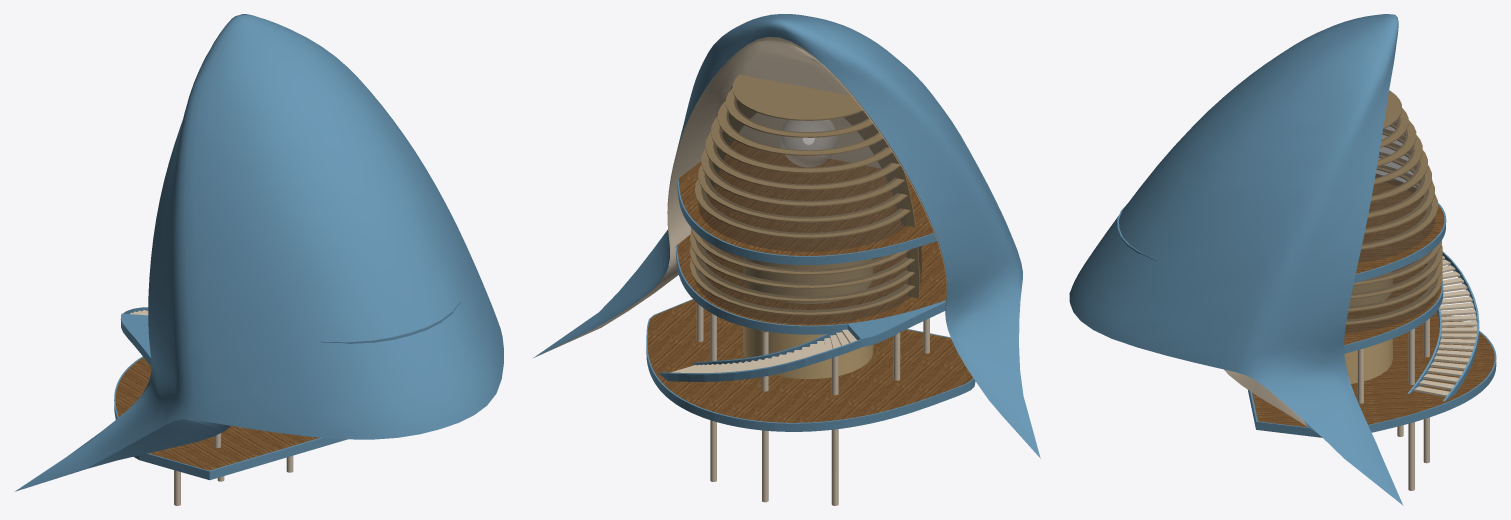
File: lwf.glb
3 renders of one model, left to right at view 1: azimuth 30°, elevation 25°; view 2: azimuth 150°, elevation 25°; view 3: azimuth 270°, elevation 25°, orthographic. The views are drawn at different scales.
Visible parts, largest first — view 1: Plane011, LWF; view 2: LWF, Plane011, Cylinder005, Shape006, Cylinder006, Group028, Shape005, Shape008, Sphere013; view 3: Plane011, LWF, Shape006, Cylinder005, Group028, Cylinder006, Shape005.
Part boxes in pixels (left/top/right/bottom): Plane011: left=15, top=14, right=503, bottom=491; LWF: left=114, top=300, right=461, bottom=480; LWF: left=539, top=37, right=975, bottom=431; Plane011: left=533, top=14, right=1040, bottom=458; Cylinder005: left=695, top=97, right=921, bottom=323; Shape006: left=690, top=75, right=914, bottom=315; Cylinder006: left=743, top=257, right=873, bottom=378; Group028: left=658, top=329, right=860, bottom=381; Shape005: left=696, top=303, right=929, bottom=505; Shape008: left=706, top=85, right=919, bottom=298; Sphere013: left=780, top=120, right=836, bottom=166; Plane011: left=1069, top=14, right=1403, bottom=505; LWF: left=1117, top=173, right=1496, bottom=437; Shape006: left=1346, top=90, right=1442, bottom=324; Cylinder005: left=1345, top=117, right=1437, bottom=332; Group028: left=1407, top=251, right=1479, bottom=401; Cylinder006: left=1344, top=271, right=1392, bottom=383; Shape005: left=1357, top=318, right=1429, bottom=490.
Bounding box in the file's own units: 19.96 × 18.38 × 15.95.
9 materials, 1 textured.
